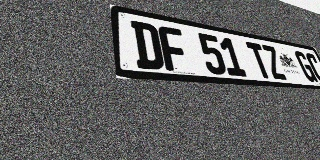1: (217, 36, 247, 77)
5: (197, 33, 228, 75)
C: (304, 52, 320, 83)
D: (131, 20, 165, 70)
F: (157, 25, 191, 72)
G: (293, 50, 318, 82)
T: (245, 41, 274, 79)
Z: (260, 44, 288, 80)
